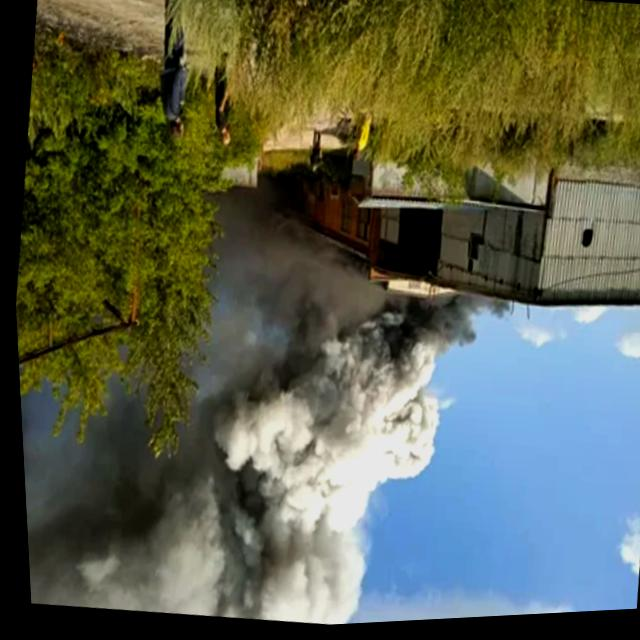Smoke: (11, 238, 522, 640)
